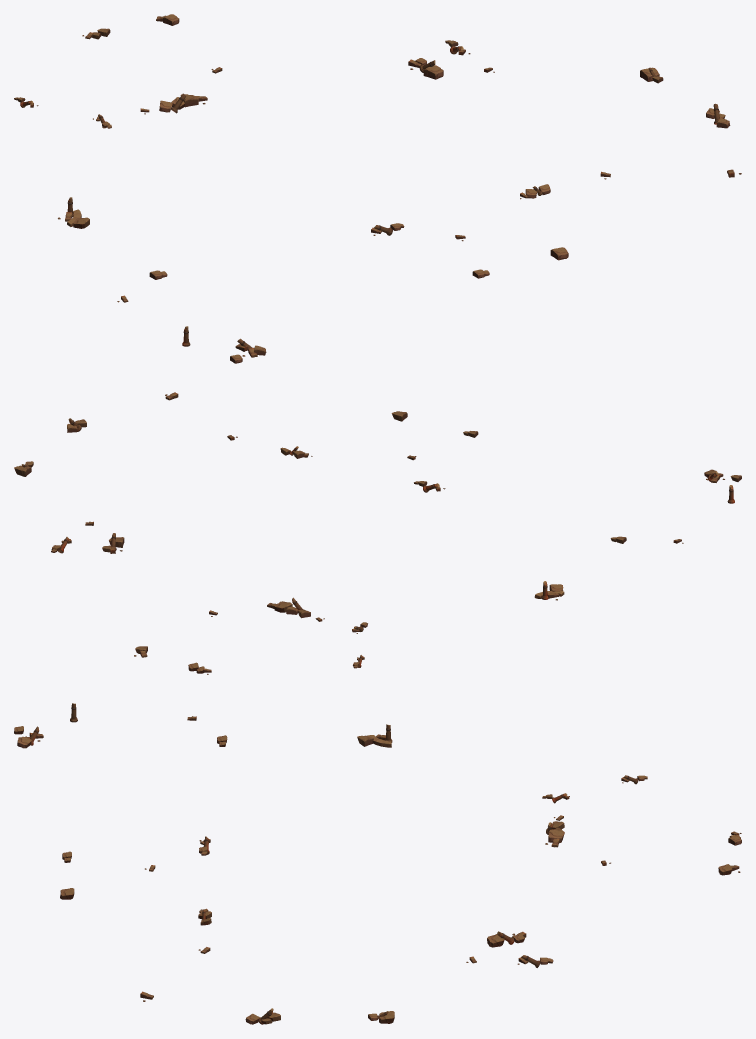
Rendered from suishi.fbx.
3 views of the same model, one above another, from view 1: azimuth 30°, elevation 25°; view 2: azimuth 150°, elevation 25°; view 3: azimuth 270°, elevation 25° (orthographic). The views are drawn at different scales.
Visible parts, largest first — view 1: suishi; view 2: suishi; view 3: suishi.
Part boxes in pixels (<box>): suishi: <box>14,14,741,363</box>; suishi: <box>14,392,741,674</box>; suishi: <box>14,703,741,1024</box>.
Bounding box in the file's own units: 18320 × 677 × 18344.
